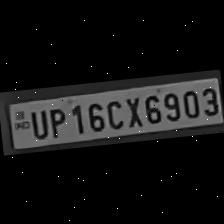0: (178, 86, 201, 118)
1: (65, 100, 86, 136)
3: (197, 83, 220, 117)
6: (139, 89, 162, 125), (82, 98, 106, 132)
9: (160, 87, 182, 121)
C: (103, 96, 125, 130)
P: (44, 104, 68, 138)
U: (26, 105, 48, 139)
X: (120, 92, 144, 128)
